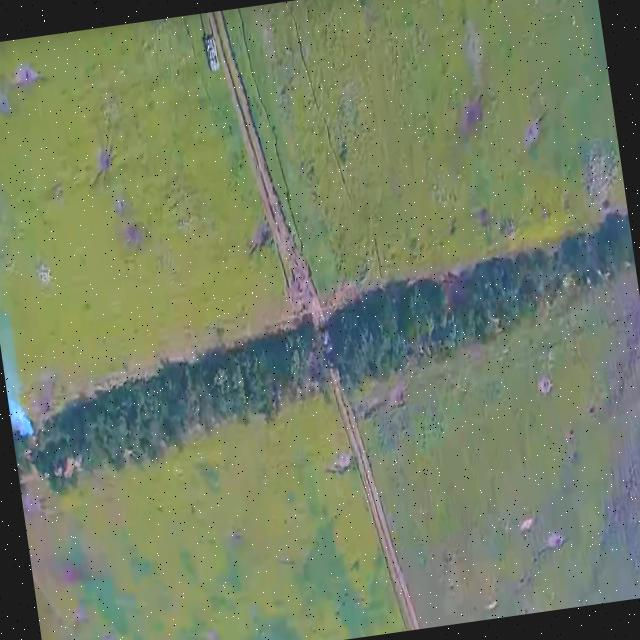AIFV: (317, 325, 339, 370), (202, 32, 224, 75)
